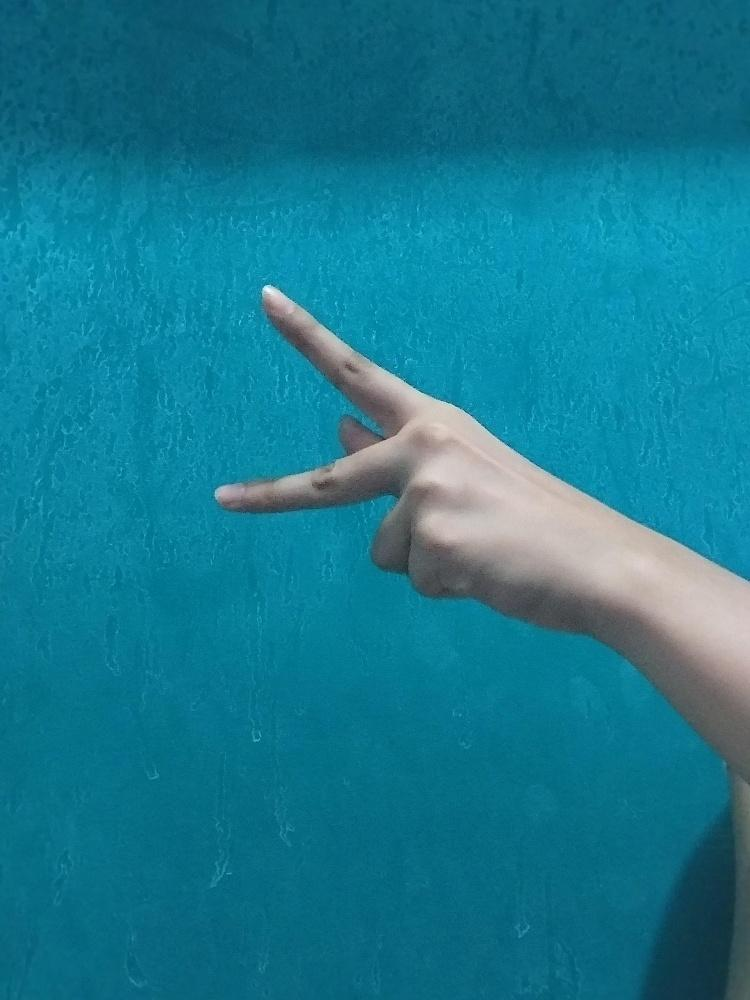k: (206, 278, 588, 631)
